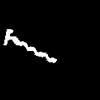half_double_crochet: (4, 29, 56, 62)
